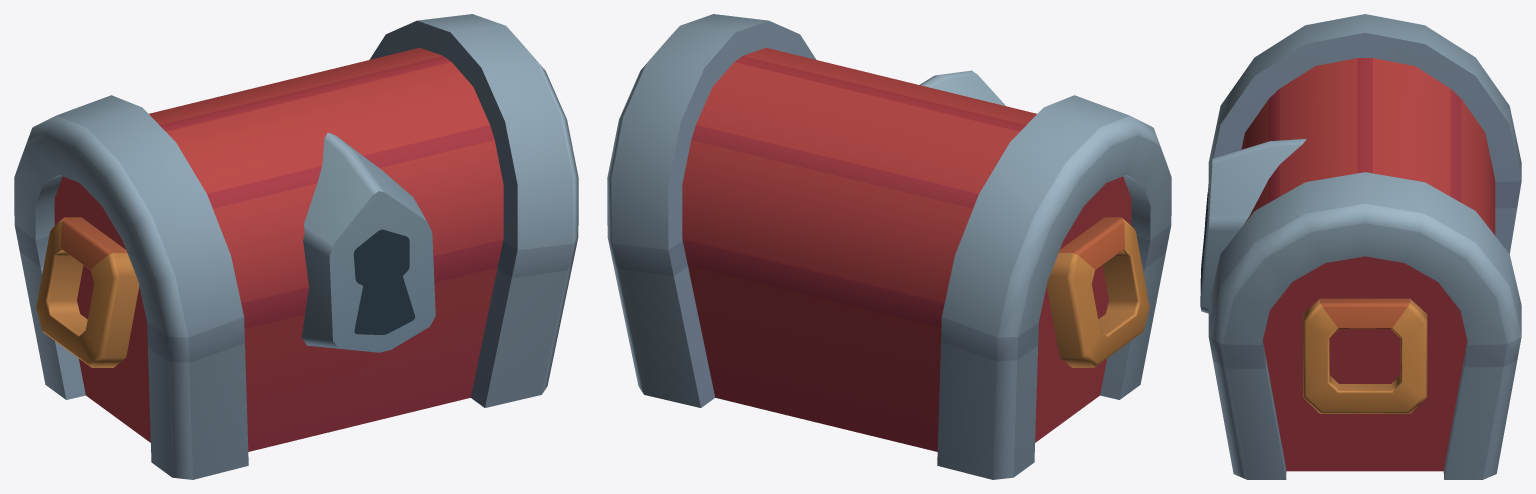
File: Chest_01.fbx
3 views of the same model, side by side, from view 1: azimuth 30°, elevation 25°; view 2: azimuth 150°, elevation 25°; view 3: azimuth 270°, elevation 25° (orthographic). The views are drawn at different scales.
Parts seen in each view (by area): view 1: Circle.008; view 2: Circle.008; view 3: Circle.008.
Part boxes in pixels (<box>): Circle.008: <box>14,14,578,479</box>; Circle.008: <box>607,14,1171,479</box>; Circle.008: <box>1200,14,1521,479</box>.
Size of the model in its own units: 177 by 115 by 114.
